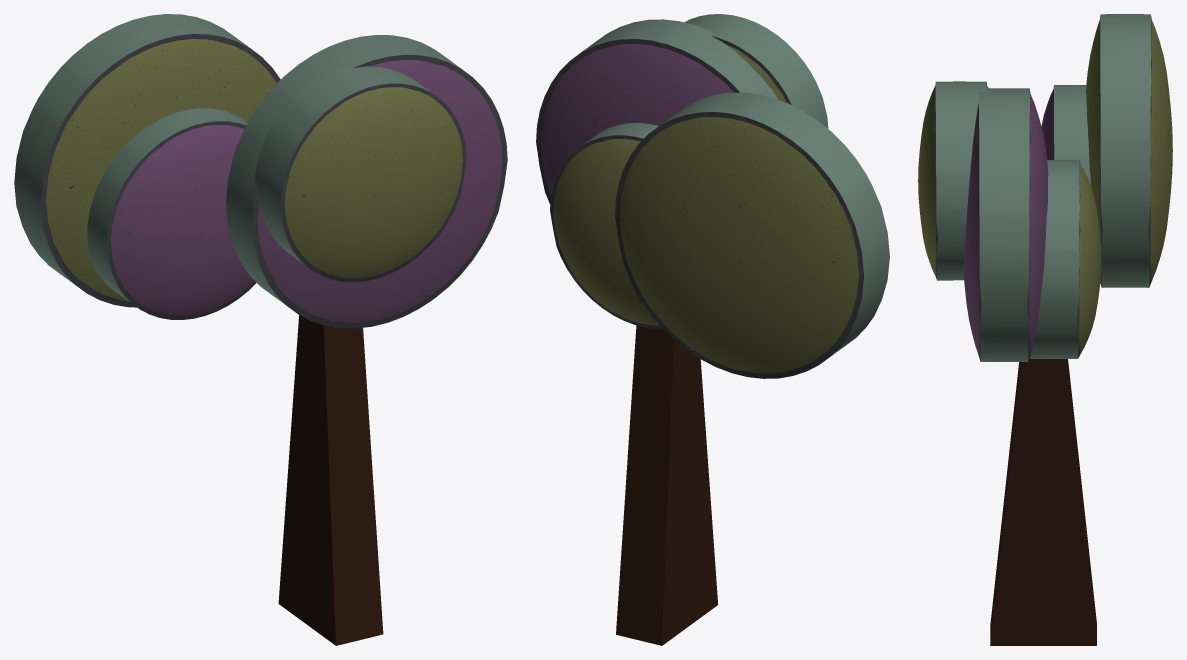
File: Tree 02.fbx
3 views of the same model, side by side, from view 1: azimuth 30°, elevation 25°; view 2: azimuth 150°, elevation 25°; view 3: azimuth 270°, elevation 25° (orthographic). The views are drawn at different scales.
Parts seen in each view (by area): view 1: tree_87_01, tree_87_02, tree_87_03, tree_87_trunk, tree_87_00; view 2: tree_87_02, tree_87_trunk, tree_87_03, tree_87_04, tree_87_01; view 3: tree_87_trunk, tree_87_02, tree_87_03, tree_87_04, tree_87_01, tree_87_00.
Part boxes in pixels (x1,y1,x2,y2): tree_87_01: [254, 66, 466, 282]; tree_87_02: [14, 14, 280, 307]; tree_87_03: [225, 35, 507, 328]; tree_87_trunk: [278, 315, 383, 645]; tree_87_00: [87, 108, 256, 319]; tree_87_02: [615, 92, 889, 378]; tree_87_trunk: [616, 325, 718, 645]; tree_87_03: [536, 19, 777, 204]; tree_87_04: [550, 123, 662, 329]; tree_87_01: [684, 14, 828, 128]; tree_87_trunk: [990, 358, 1096, 645]; tree_87_02: [1086, 14, 1172, 287]; tree_87_03: [963, 88, 1048, 361]; tree_87_04: [1030, 160, 1101, 358]; tree_87_01: [918, 81, 988, 280]; tree_87_00: [1041, 85, 1100, 283].
Bounding box in the file's own units: 17.24 × 24.26 × 10.21.
